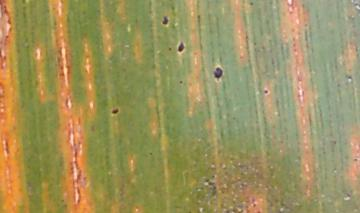tarspot: (211, 64, 224, 83), (175, 38, 186, 56), (160, 14, 170, 26), (344, 72, 354, 81), (110, 107, 120, 115), (248, 1, 255, 8), (262, 88, 269, 95), (148, 150, 154, 157), (177, 79, 184, 84), (167, 46, 172, 52), (170, 4, 175, 10), (352, 156, 357, 162)
